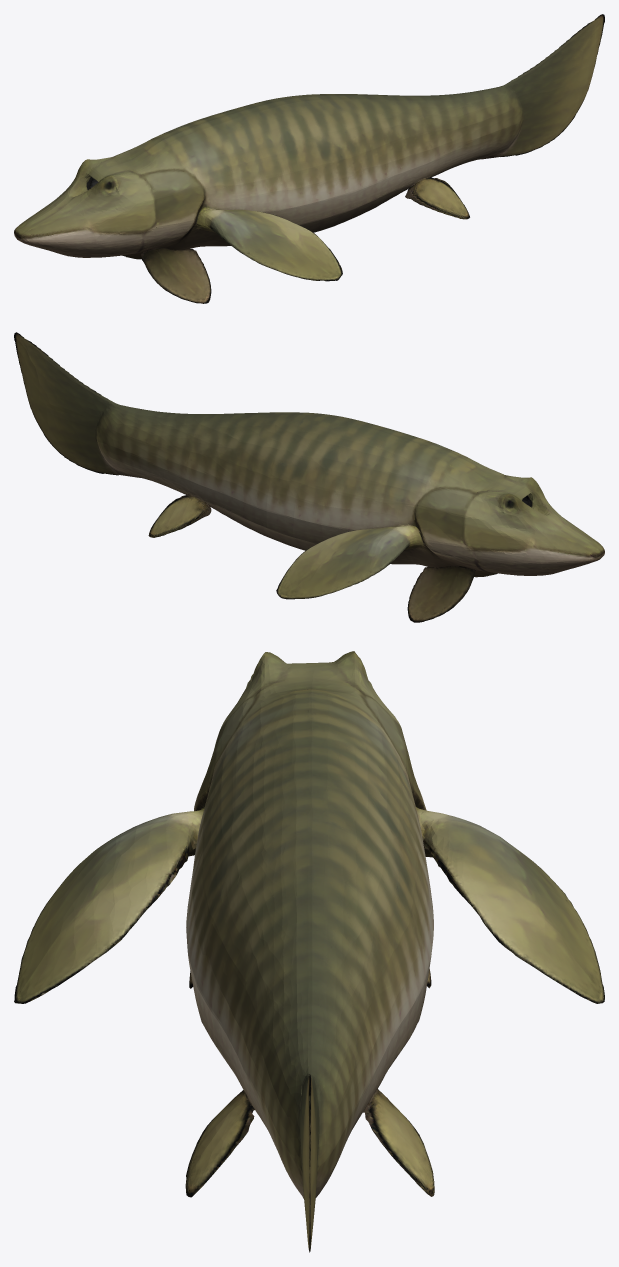
The picture shows the model from 3 angles, top to bottom: view 1: azimuth 30°, elevation 25°; view 2: azimuth 150°, elevation 25°; view 3: azimuth 270°, elevation 25°; orthographic projection. The views are drawn at different scales.
Parts seen in each view (by area): view 1: world; view 2: world; view 3: world.
Part boxes in pixels (bbox=[...]): world: bbox=[14, 14, 604, 303]; world: bbox=[14, 332, 604, 622]; world: bbox=[14, 651, 604, 1252].
Size of the model in its own units: 0.9978 by 0.2645 by 0.4418.
Materials: 1 (1 with a texture image).
